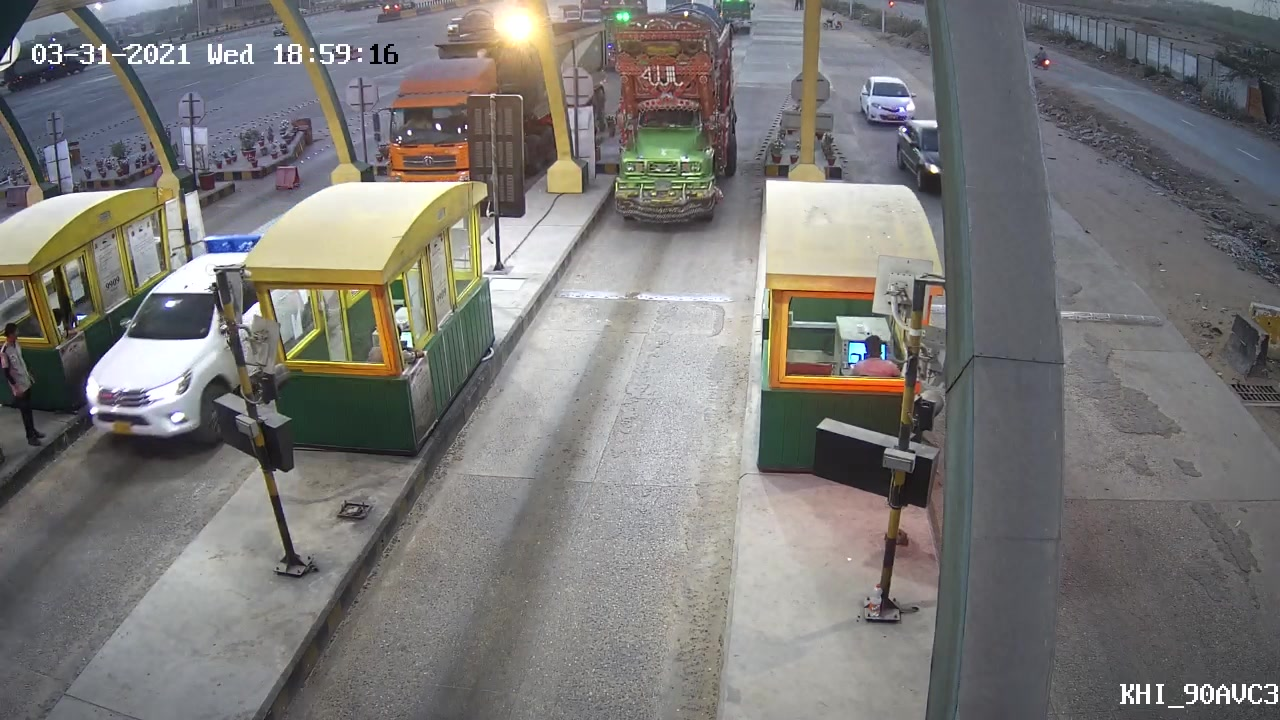F5: (596, 8, 742, 225)
